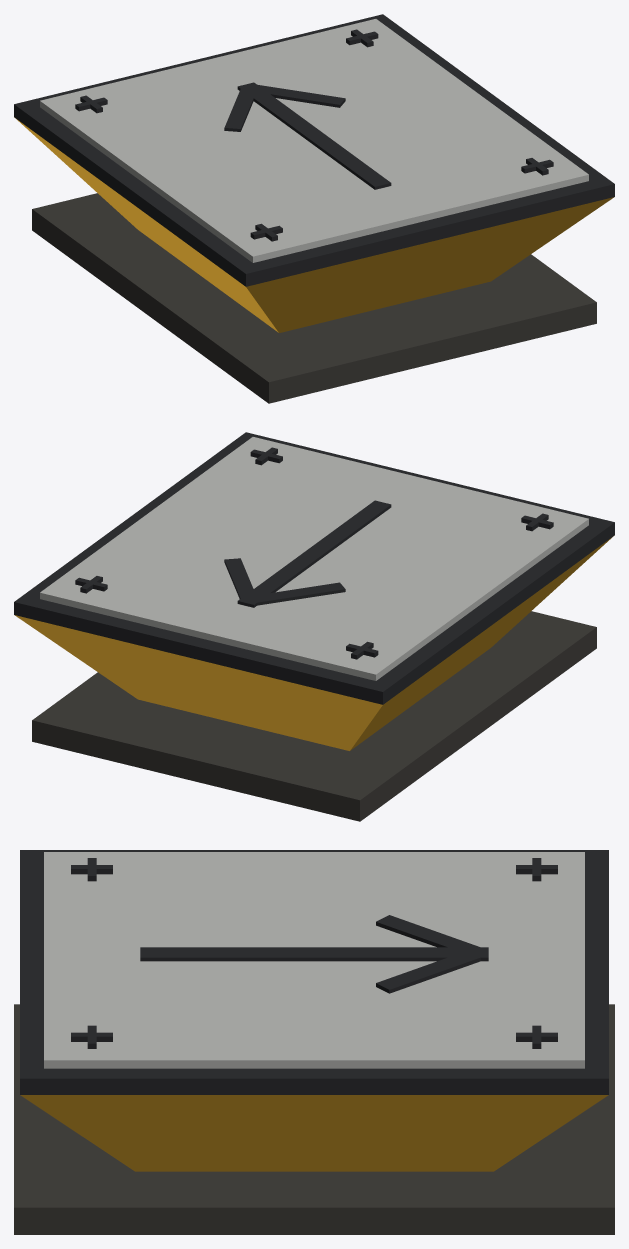
File: loader-1x1.glb
3 views of the same model, one above another, from view 1: azimuth 30°, elevation 25°; view 2: azimuth 150°, elevation 25°; view 3: azimuth 270°, elevation 25° (orthographic). The views are drawn at different scales.
Visible parts, largest first — view 1: body; view 2: body; view 3: body.
Boxes of the visible parts, box(x1,y1,x2,y2) form: body: box(14, 14, 614, 403); body: box(14, 432, 614, 821); body: box(14, 850, 614, 1234).
Size of the model in its own units: 0.9 by 0.335 by 1.
